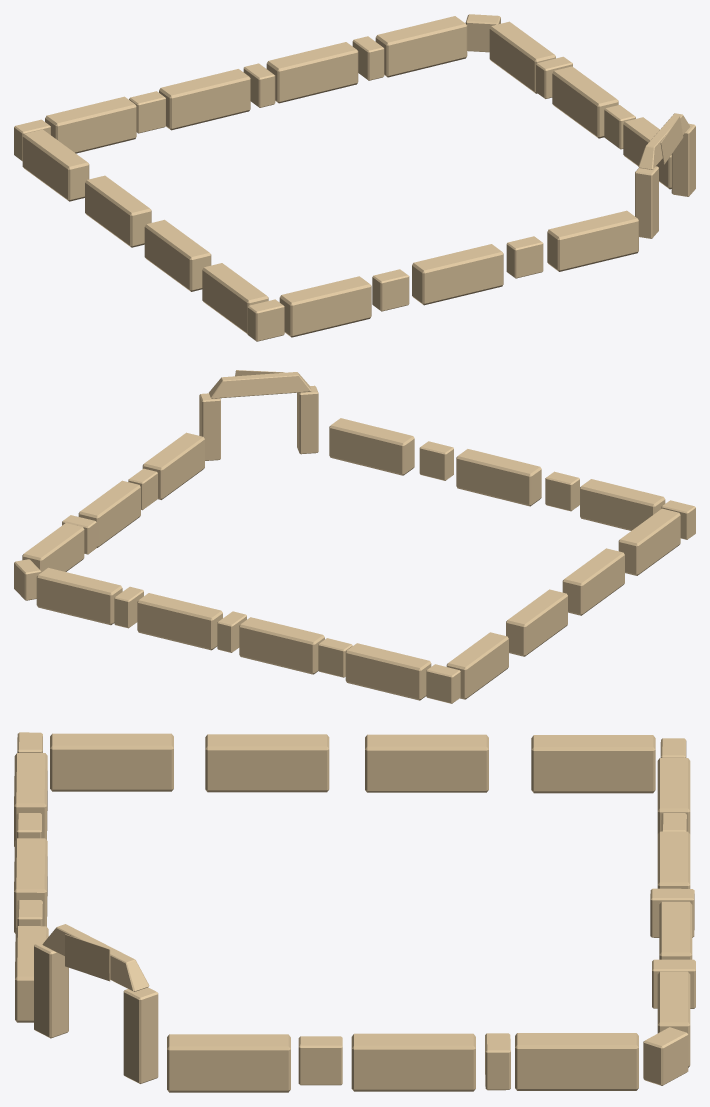
Rendered from zoo_4_d.glb.
3 renders of one model, top to bottom at view 1: azimuth 30°, elevation 25°; view 2: azimuth 150°, elevation 25°; view 3: azimuth 270°, elevation 25°, orthographic. The views are drawn at different scales.
Parts seen in each view (by area): view 1: COLUMN.023, COLUMN.024, COLUMN.025, COLUMN.031, COLUMN.032, COLUMN.030, COLUMN.033, COLUMN.034, COLUMN.035, COLUMN.036, COLUMN.028, COLUMN.029 (+16 smaller); view 2: COLUMN.023, COLUMN.024, COLUMN.033, COLUMN.031, COLUMN.032, COLUMN.030, COLUMN.025, COLUMN.035, COLUMN.036, COLUMN.037, COLUMN.034, COLUMN.027 (+15 smaller); view 3: COLUMN.028, COLUMN.034, COLUMN.036, COLUMN.027, COLUMN.037, COLUMN.035, COLUMN.029, COLUMN.002, COLUMN.001, COLUMN.024, COLUMN.025, CUBE_SMOL.016 (+13 smaller).
Boxes of the visible parts, <box> form: COLUMN.023: <box>547,210,638,271</box>; COLUMN.024: <box>412,244,503,305</box>; COLUMN.025: <box>279,276,371,337</box>; COLUMN.031: <box>266,42,358,103</box>; COLUMN.032: <box>159,69,250,130</box>; COLUMN.030: <box>375,16,467,77</box>; COLUMN.033: <box>45,96,136,153</box>; COLUMN.034: <box>22,129,89,201</box>; COLUMN.035: <box>85,175,151,247</box>; COLUMN.036: <box>144,219,211,291</box>; COLUMN.028: <box>552,66,618,138</box>; COLUMN.029: <box>489,21,555,93</box>; COLUMN.023: <box>329,418,414,475</box>; COLUMN.024: <box>456,449,541,506</box>; COLUMN.033: <box>345,643,431,700</box>; COLUMN.031: <box>137,593,222,650</box>; COLUMN.032: <box>239,617,324,674</box>; COLUMN.030: <box>36,567,122,625</box>; COLUMN.025: <box>580,479,665,530</box>; COLUMN.035: <box>506,589,567,656</box>; COLUMN.036: <box>562,548,624,615</box>; COLUMN.037: <box>618,508,680,575</box>; COLUMN.034: <box>446,632,508,699</box>; COLUMN.027: <box>142,432,204,499</box>; COLUMN.028: <box>351,1033,475,1091</box>; COLUMN.034: <box>531,735,655,793</box>; COLUMN.036: <box>205,734,329,792</box>; COLUMN.027: <box>167,1034,290,1092</box>; COLUMN.037: <box>50,733,173,791</box>; COLUMN.035: <box>365,734,488,792</box>; COLUMN.029: <box>515,1033,638,1090</box>; COLUMN.002: <box>123,987,158,1083</box>; COLUMN.001: <box>34,941,68,1038</box>; COLUMN.024: <box>14,838,47,933</box>; COLUMN.025: <box>14,753,47,846</box>; CUBE_SMOL.016: <box>298,1036,342,1085</box>.
Size of the model in its own units: 45.63 by 8.2 by 41.17.
